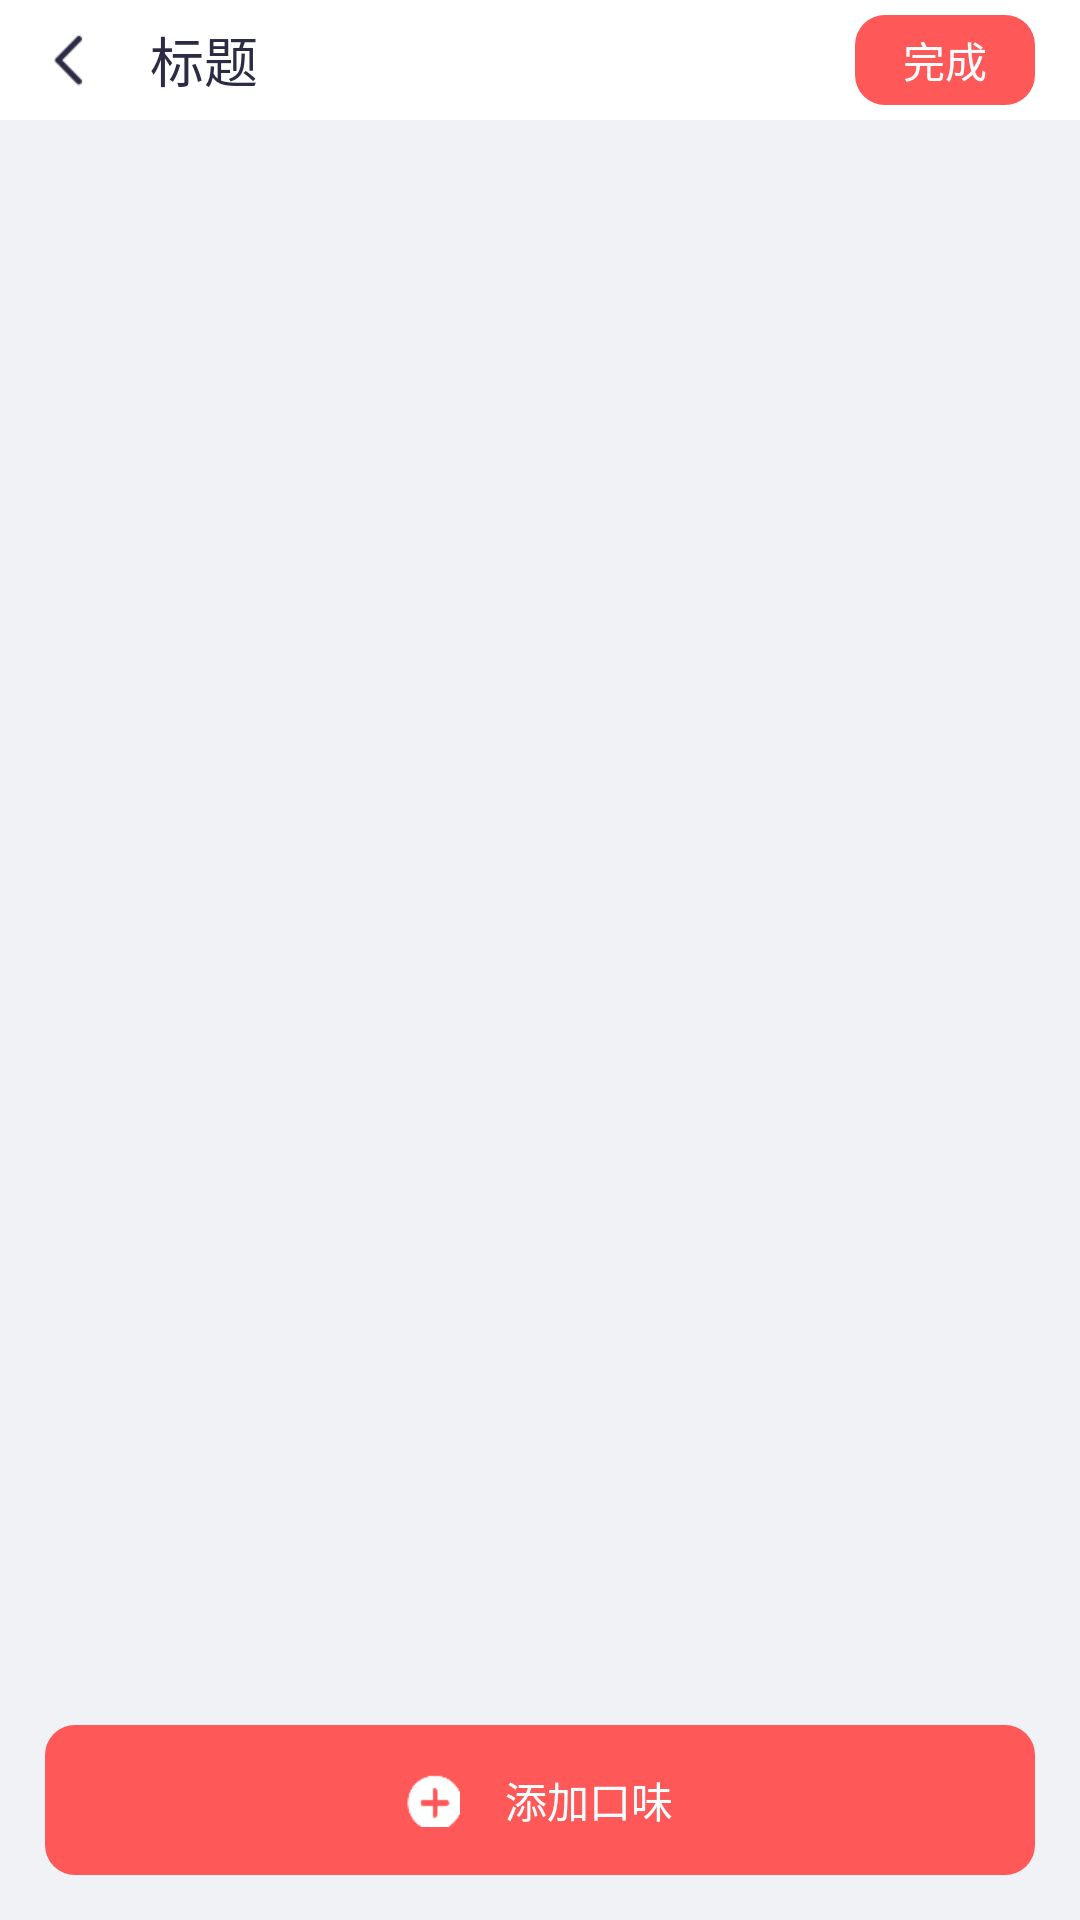

Point at icon controls on the screen. Image size 1080 × 1920, points as point (x, y).
return: point (68, 60)
